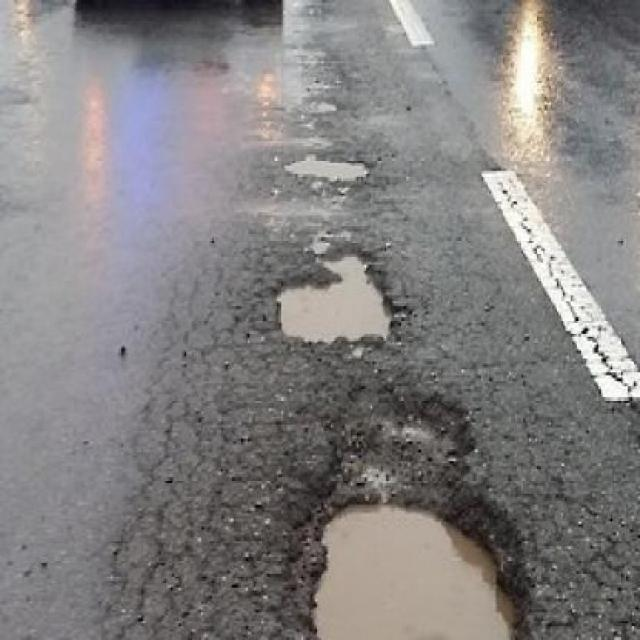Pothole: (283, 383, 543, 637), (263, 243, 412, 348), (282, 146, 378, 188)
